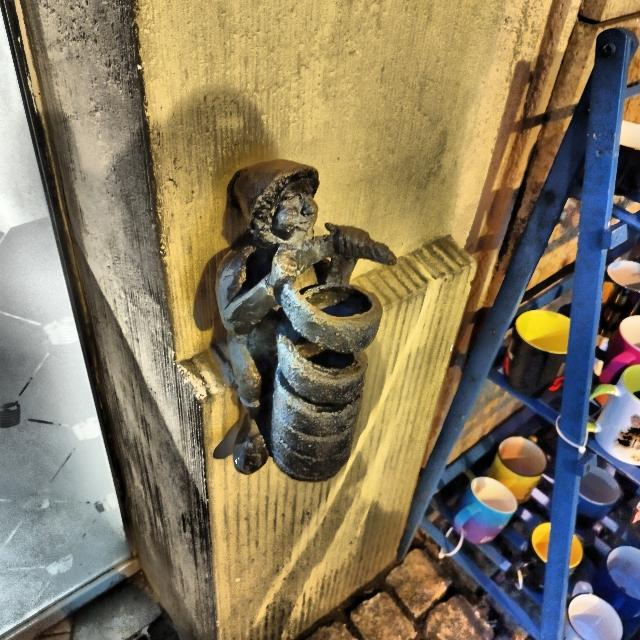Czimnejek: (182, 154, 406, 497)
